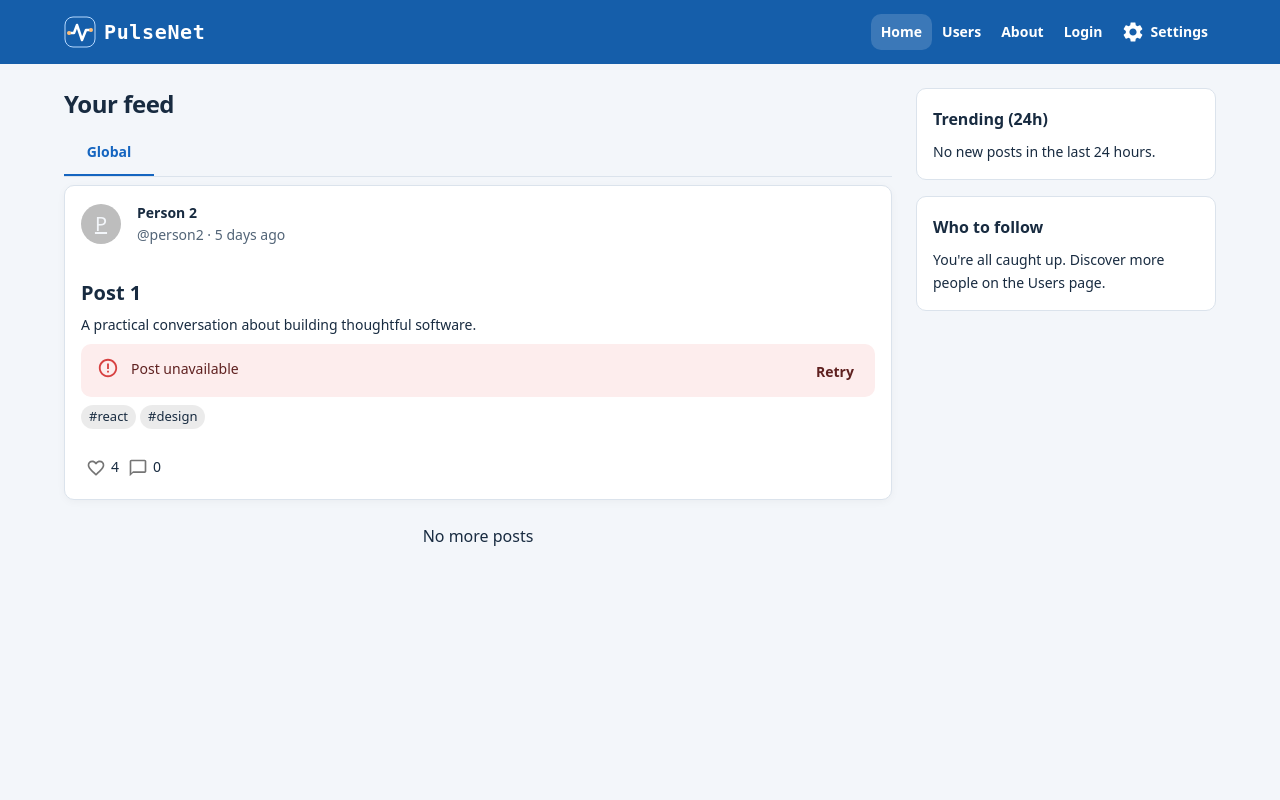
Test: frontend request recovery › recovers a failed post detail load instead of leaving the spinner active
The width and height of the screenshot is (1280, 800).
Click the button with test id "comment-button": coordinates (138, 468) top-left (123, 453), bottom-right (153, 483)
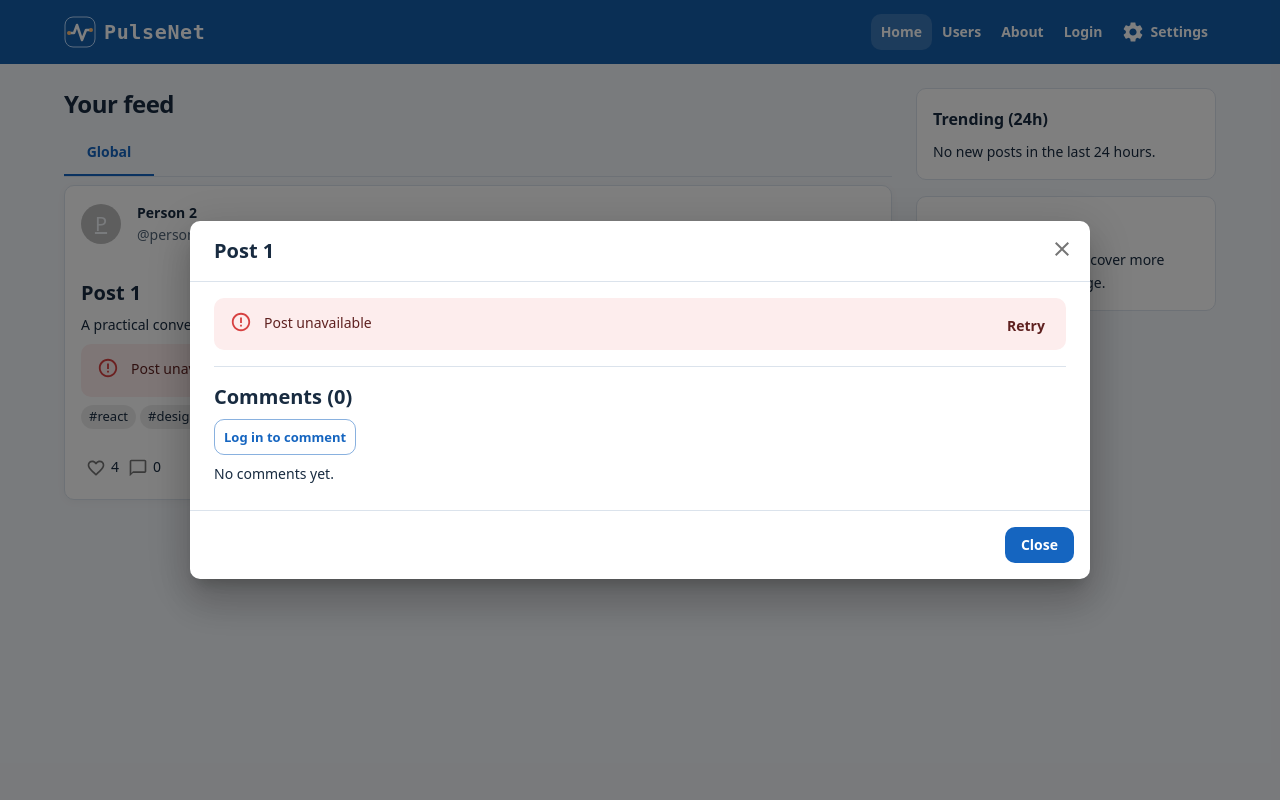
Expected: the text "Post unavailable" is shown, top-left (264, 313), bottom-right (372, 332)
Click the button "Retry": coordinates (1026, 327) top-left (994, 308), bottom-right (1058, 345)
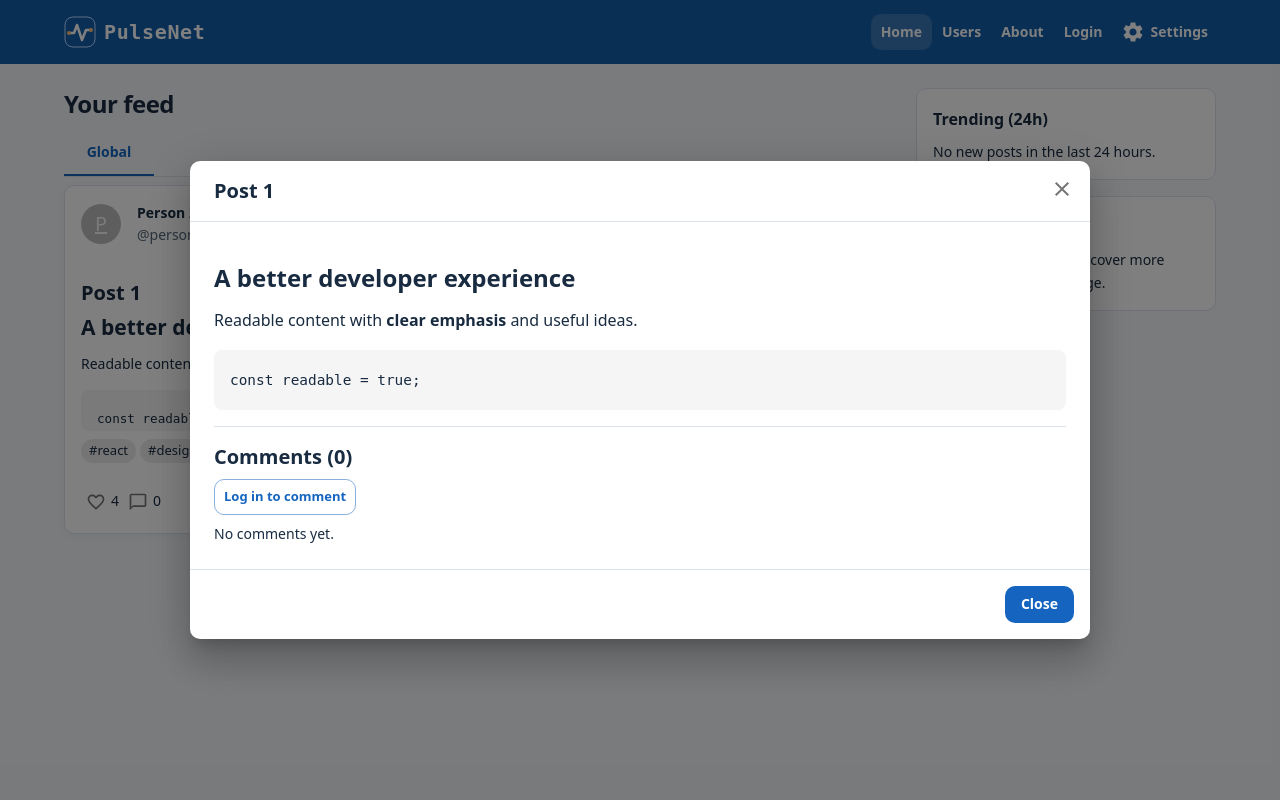
Expected: the heading with test id "post-dialog" reads "A better developer experience", top-left (214, 261), bottom-right (575, 294)
